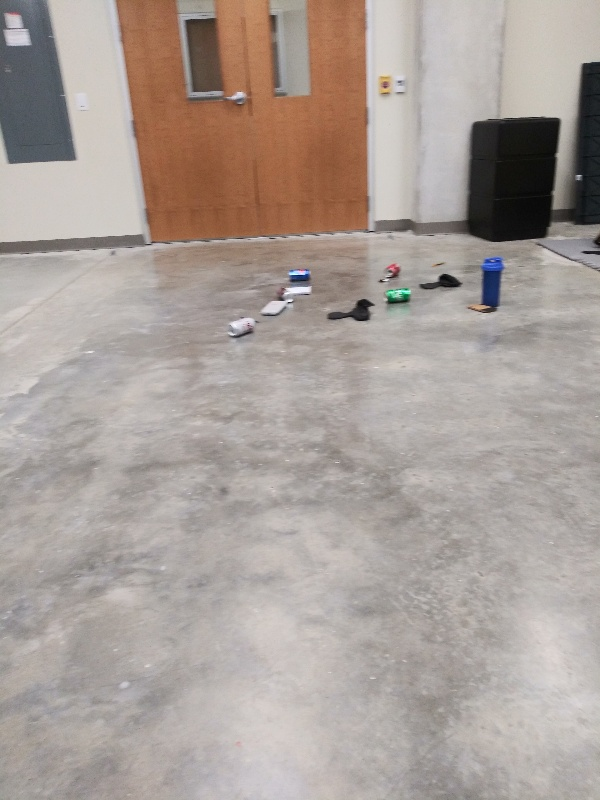can: (381, 287, 415, 306), (227, 317, 257, 338), (288, 267, 312, 284), (382, 262, 402, 280), (275, 287, 295, 302)
